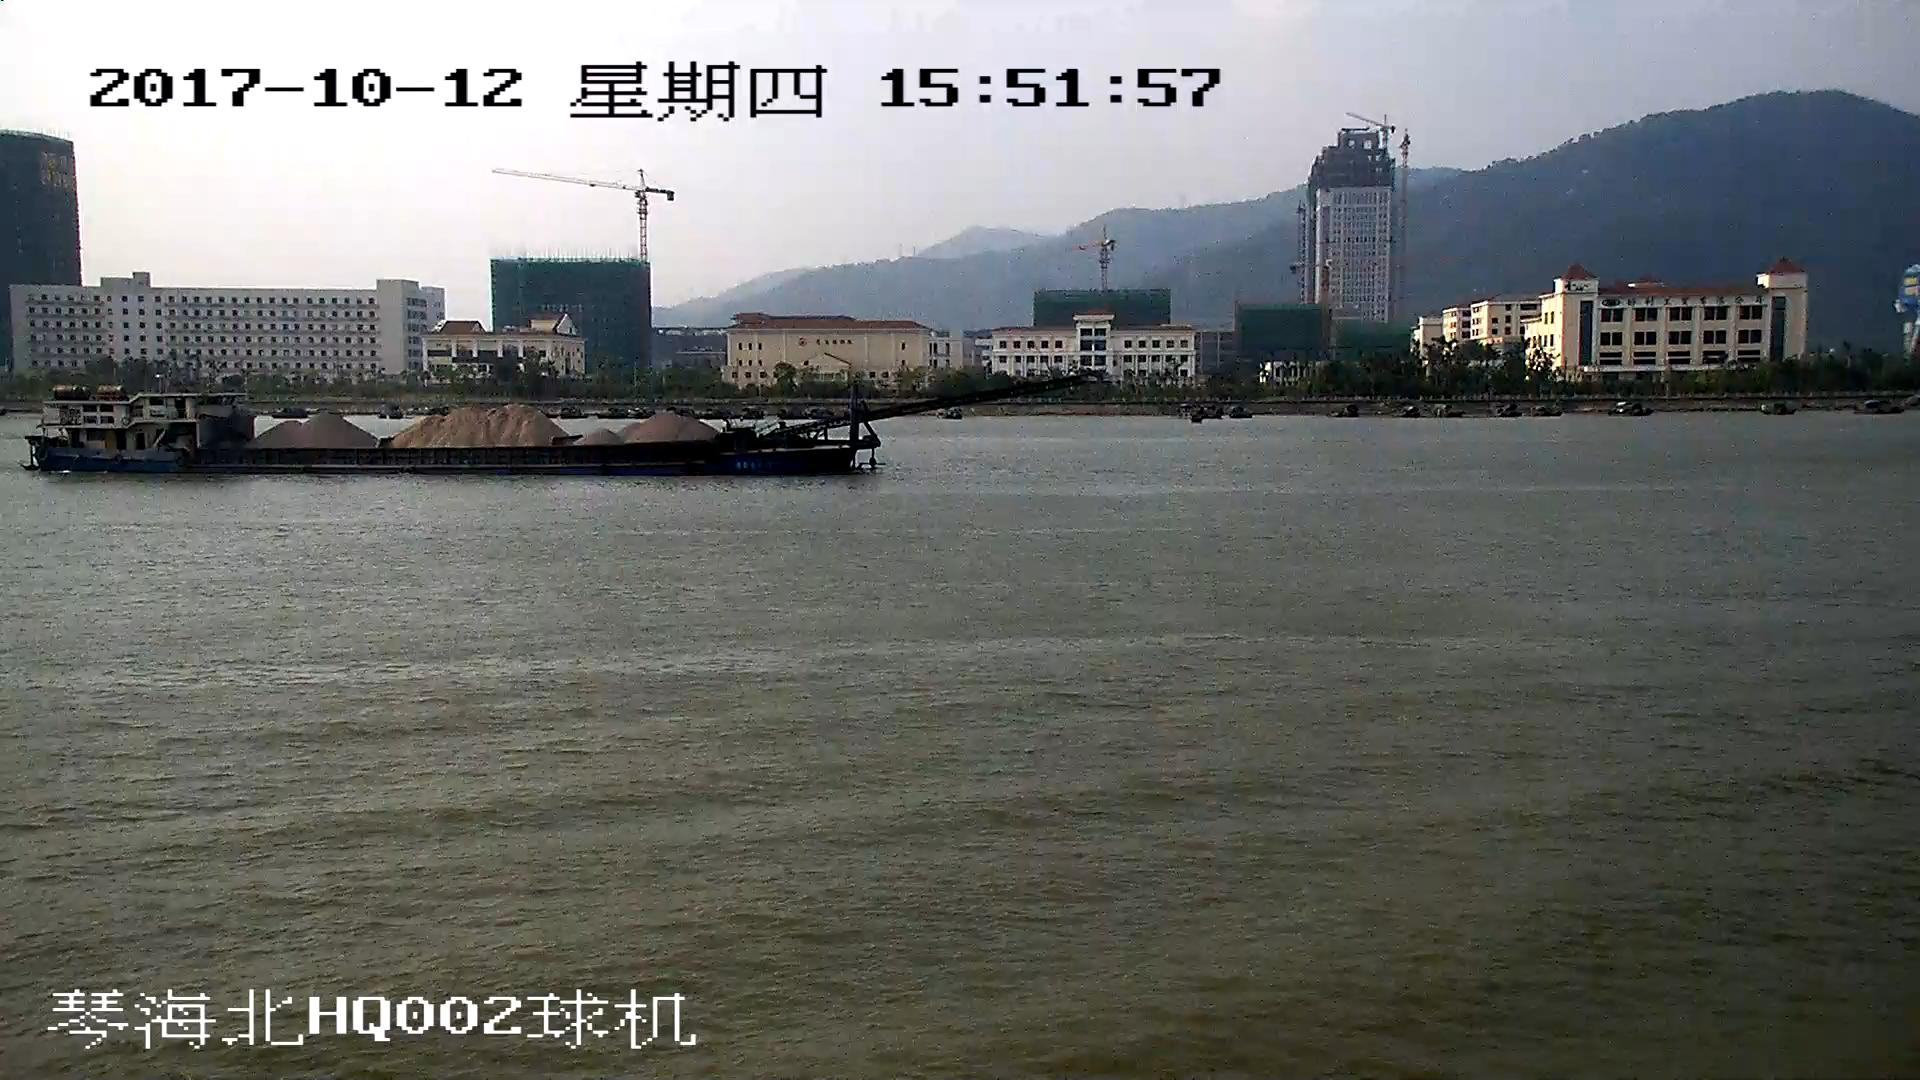ore carrier: (24, 371, 1094, 474)
